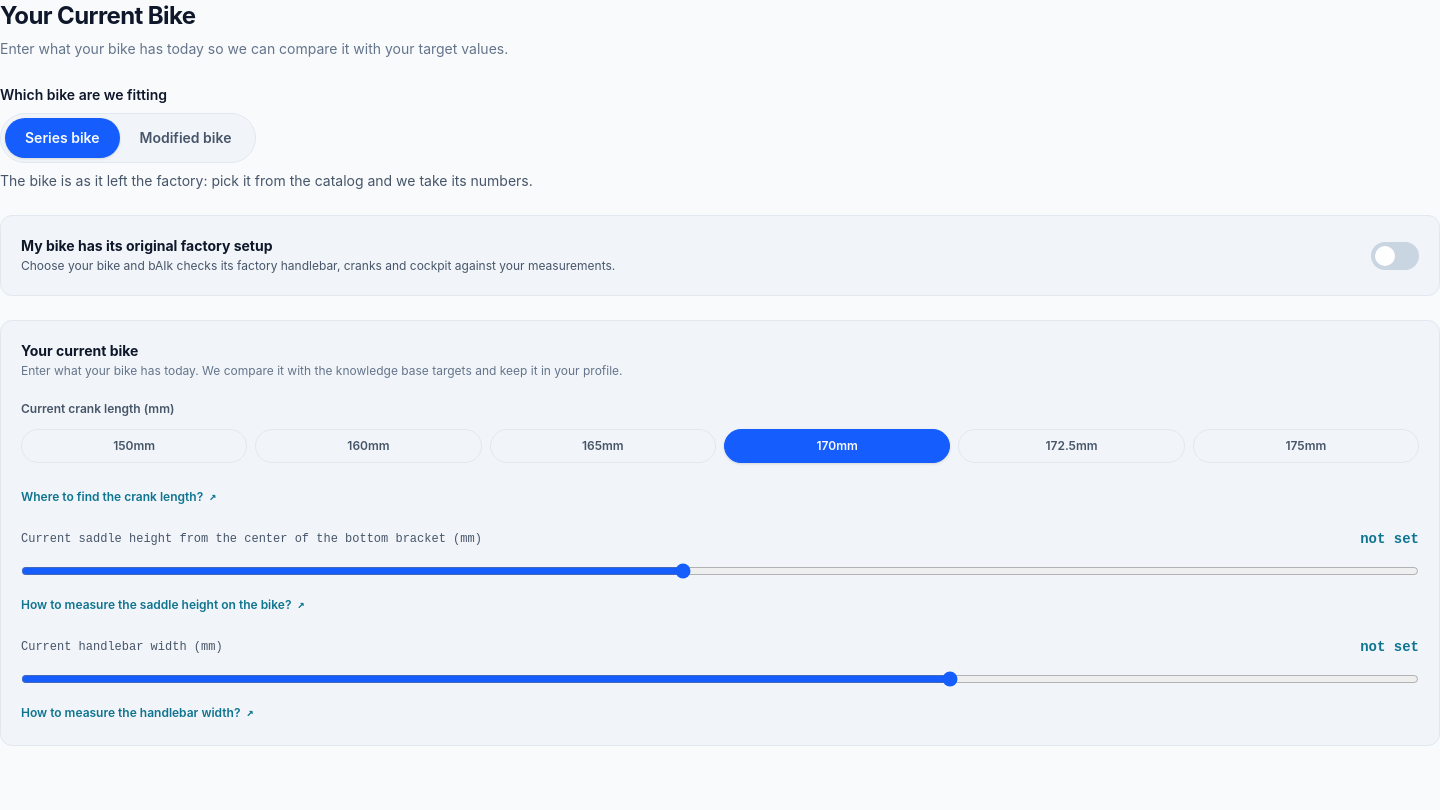
it: step 4 for a modified bike (en) › should accept a negative drop and a decimal crank length, and select a crank preset
Click the button with test id "setup-mode-custom" at coordinates (185, 138), box [120,118,251,158]
(page scrolled)
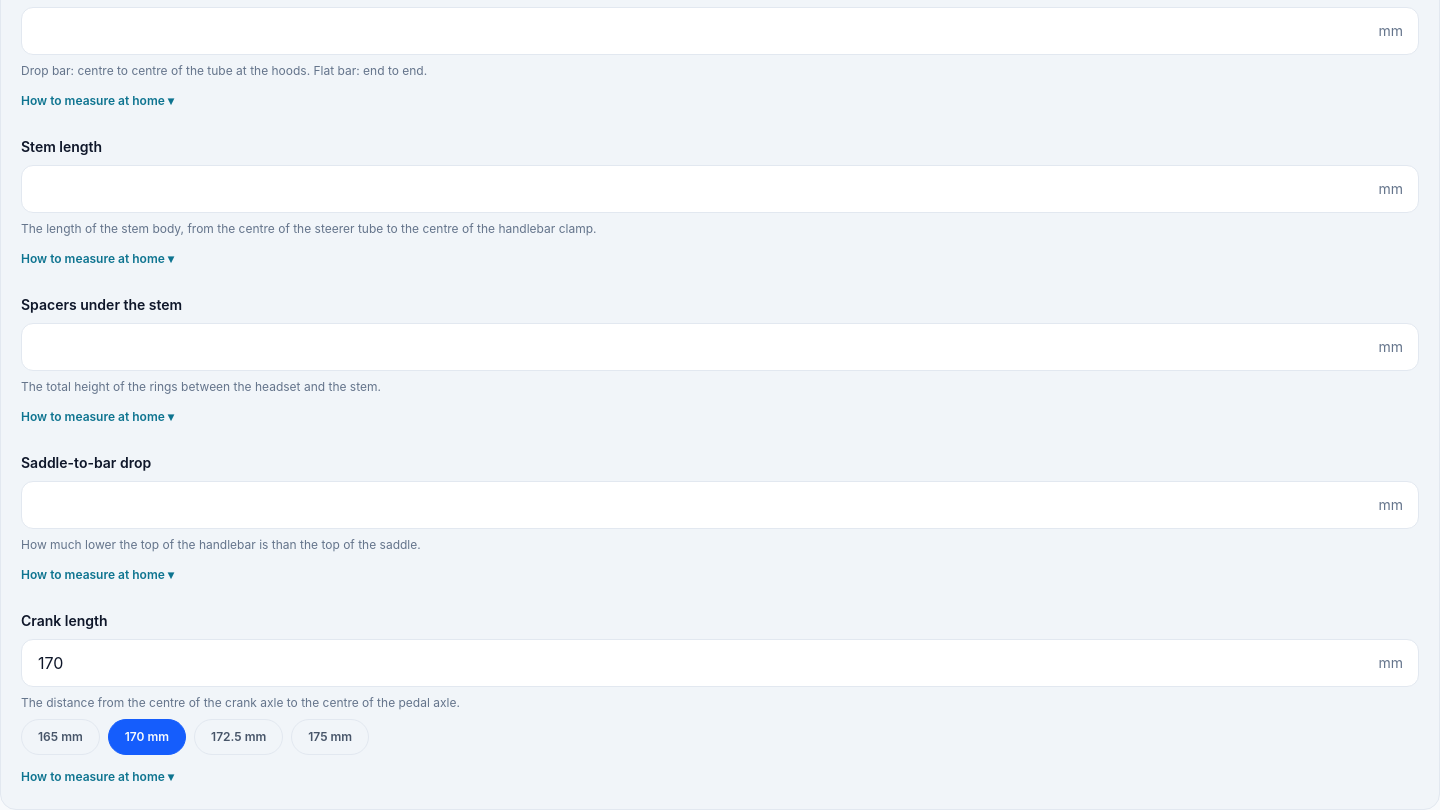
Type "-15" into the field labelled "Saddle-to-bar drop" at coordinates (720, 504), box [21,480,1419,528]
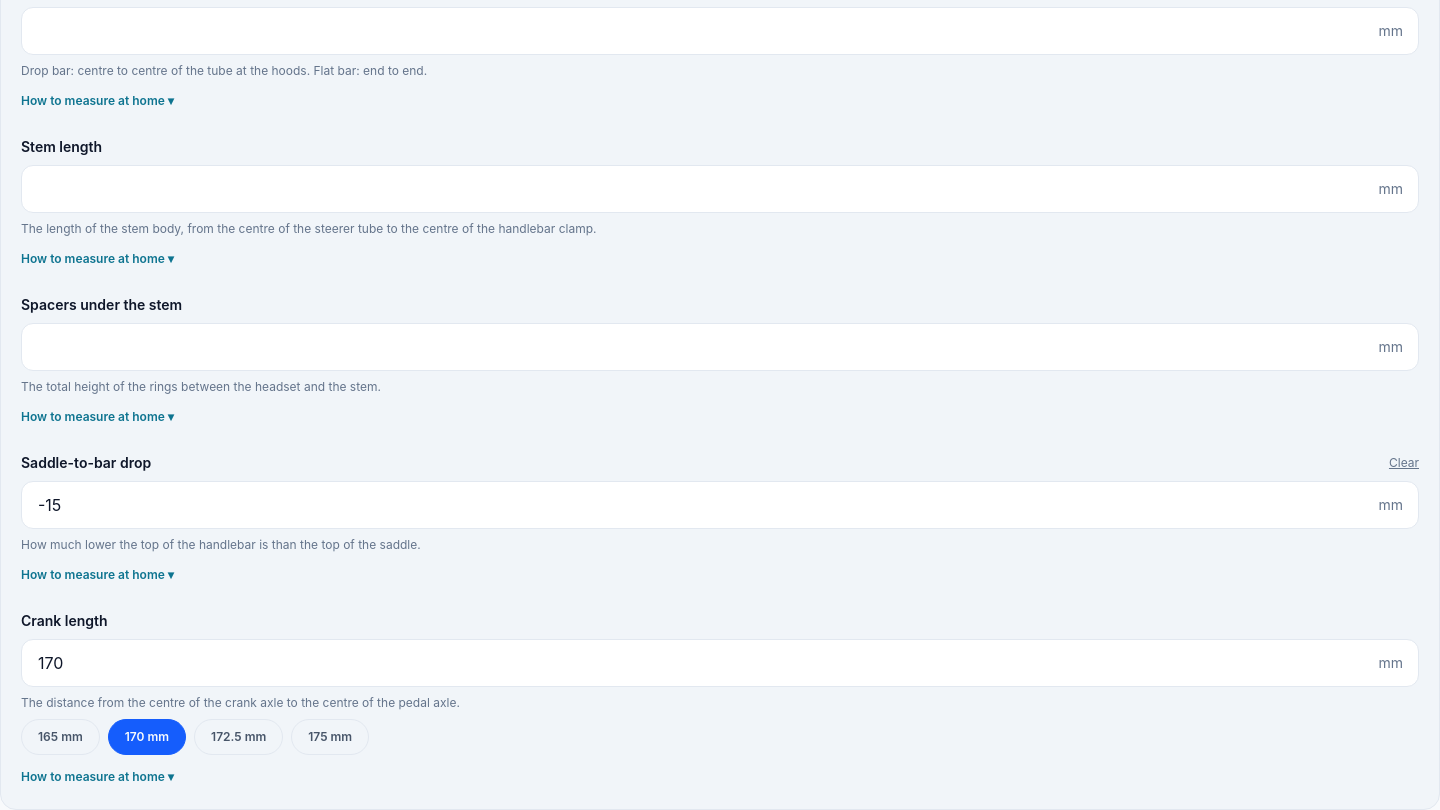
Replace the text in the field labelled "Crank length" with "172,5" at coordinates (720, 662), box [21,638,1419,686]
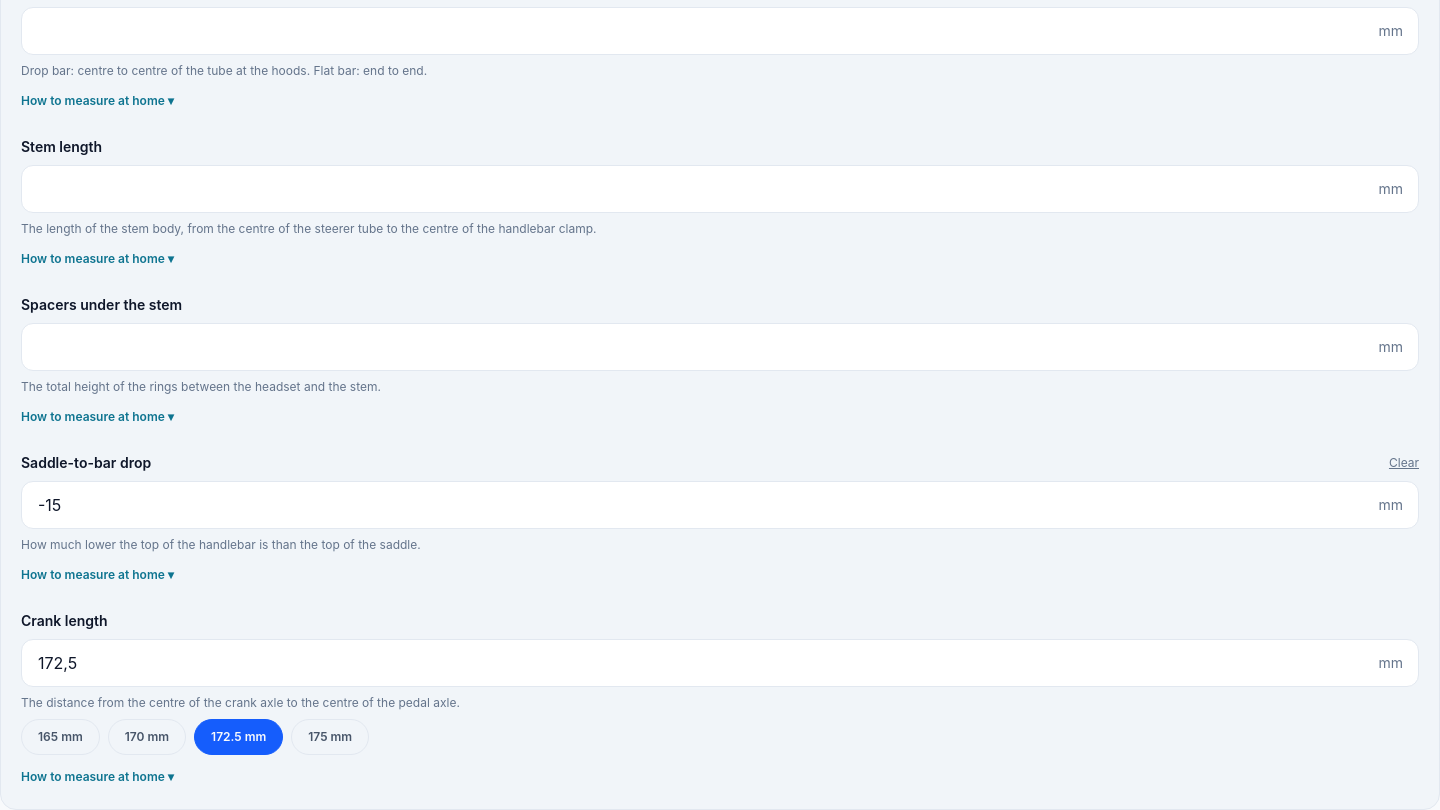
Click the button "175 mm" at coordinates (330, 736), box [291,718,369,754]
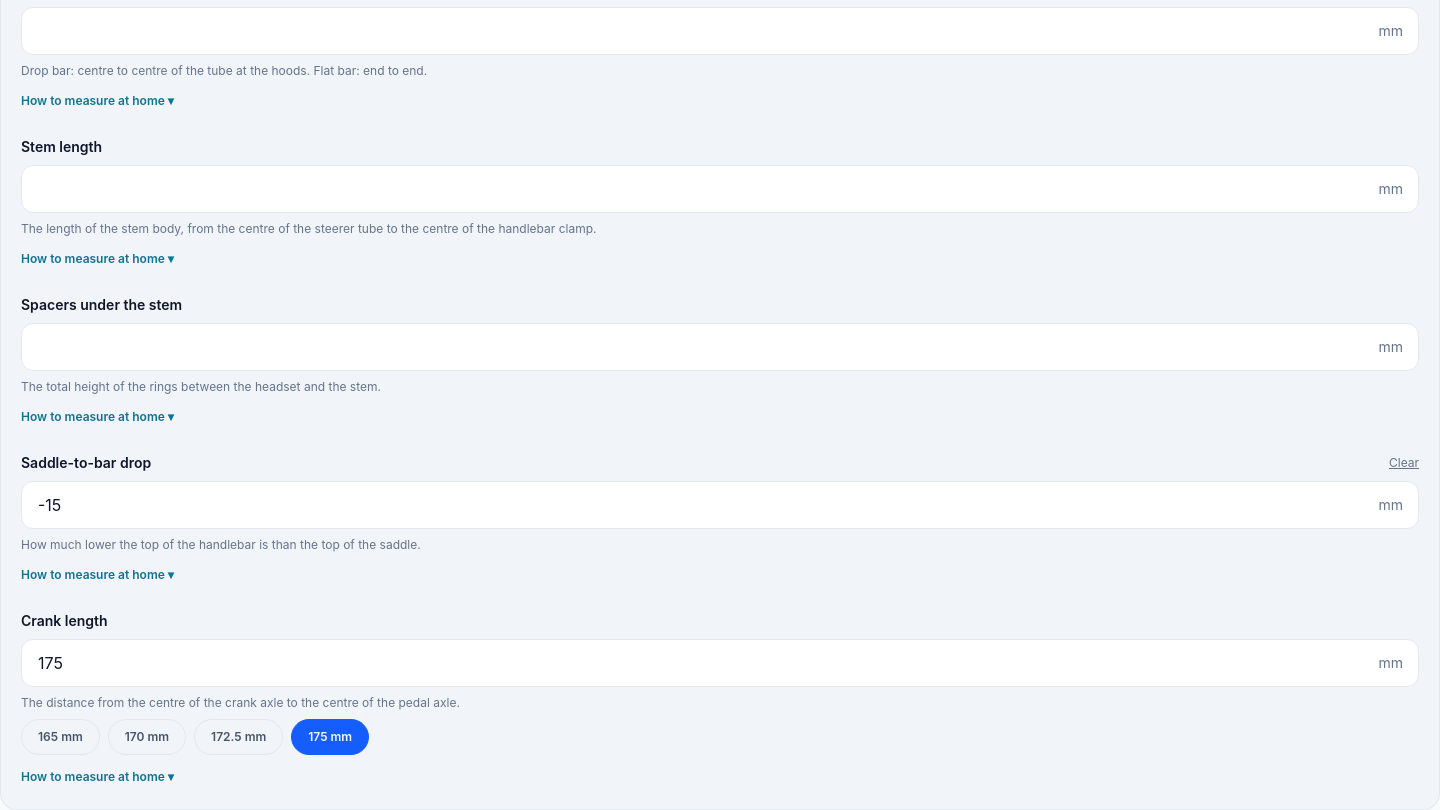
Expected: the field labelled "Crank length" holds "175", [21,638,1419,686]
